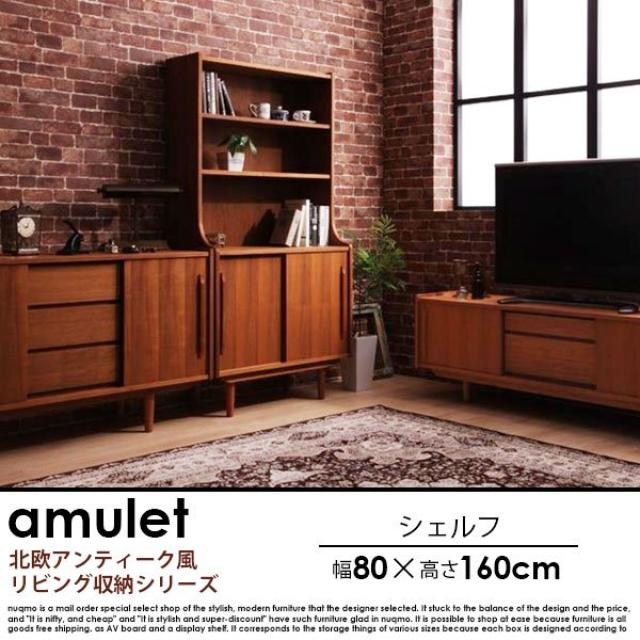vintage shelf: (160, 51, 356, 399), (1, 246, 208, 433), (416, 290, 640, 425)
